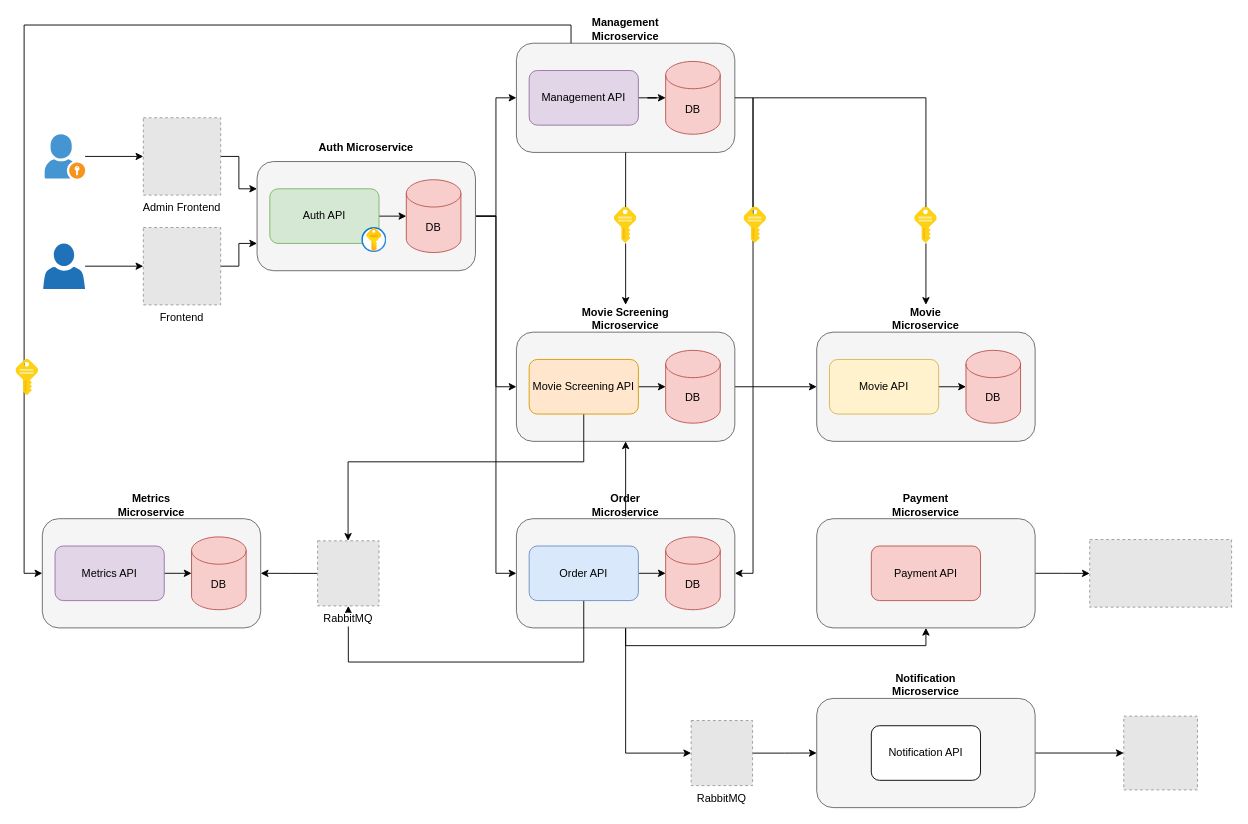
Image size: 1248x824. Some labels were removed from this diagram. Grey dashed boxes stand in for pictures. Each missing label, with the centre of its shape:
Admin: the point at 64,156
User: the point at 64,265
